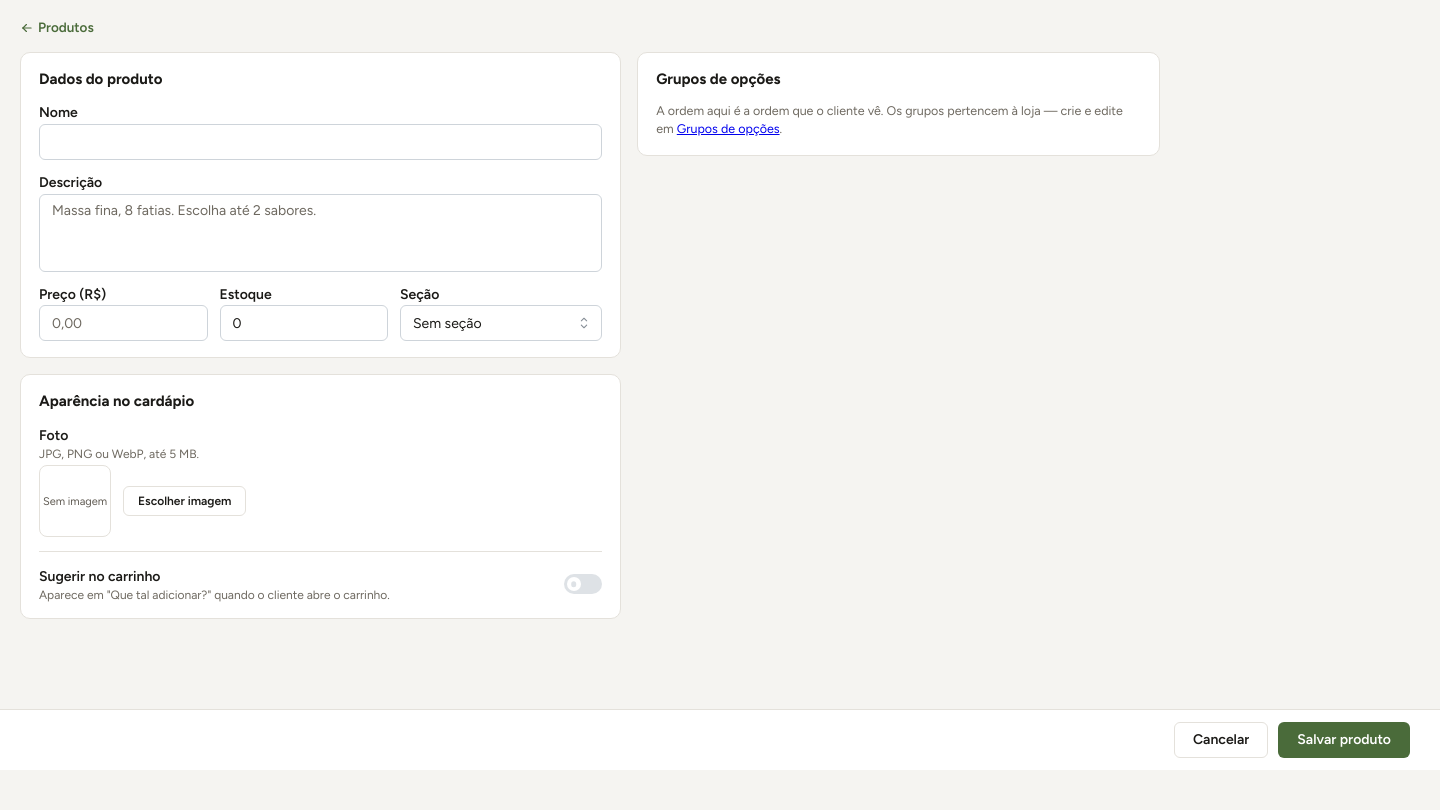
Test: ProductFormPage › produto recém-criado troca para edição quando os grupos falham, e salvar de novo não duplica
Step 1. Type "Pizza Grande" into the field labelled "Nome" → (321, 142), box [39, 124, 602, 160]
Step 2. Type "45,90" into the field labelled "Preço (R$)" → (123, 323), box [39, 305, 208, 341]
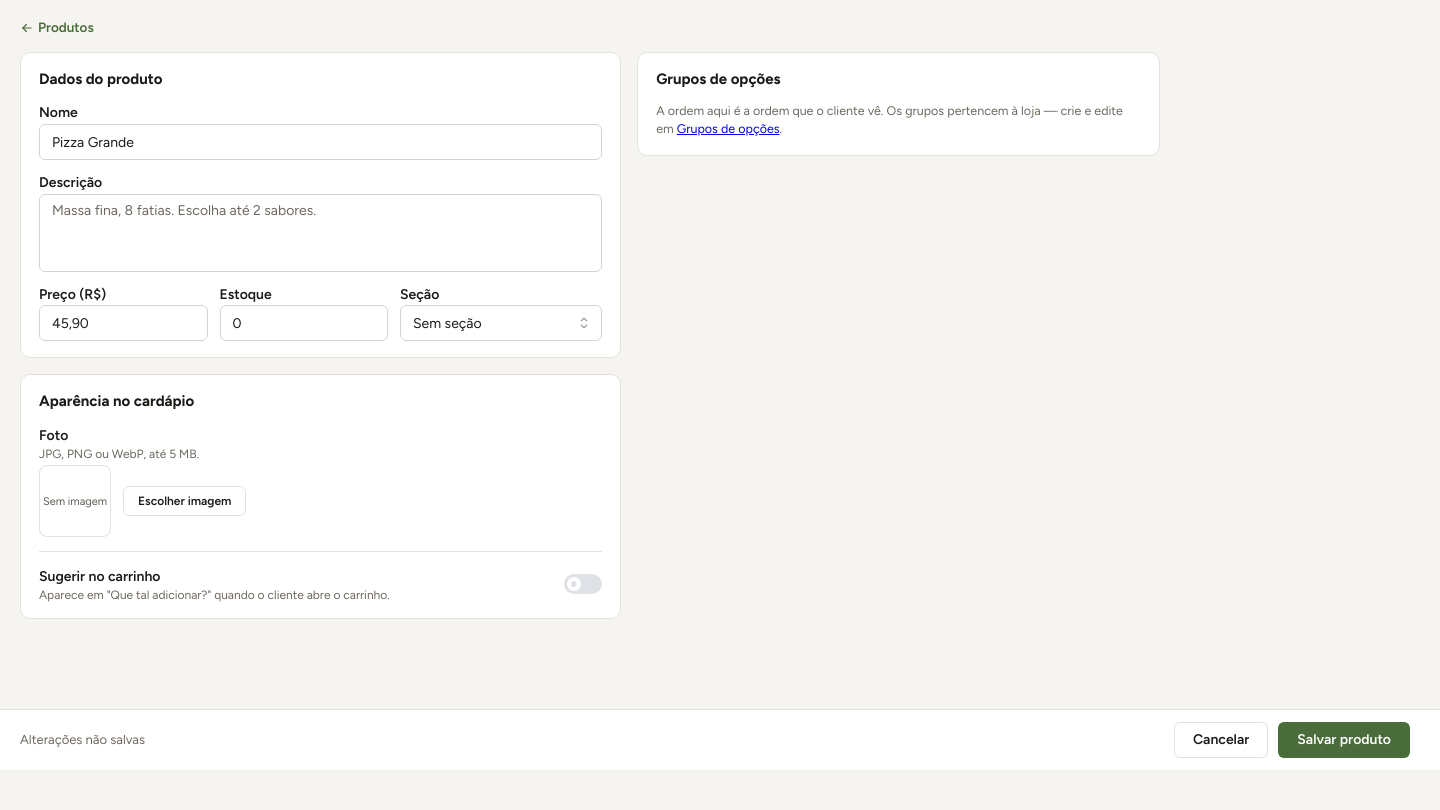
Step 3. Replace the text in the field labelled "Estoque" with "12" → (304, 323), box [220, 305, 388, 341]
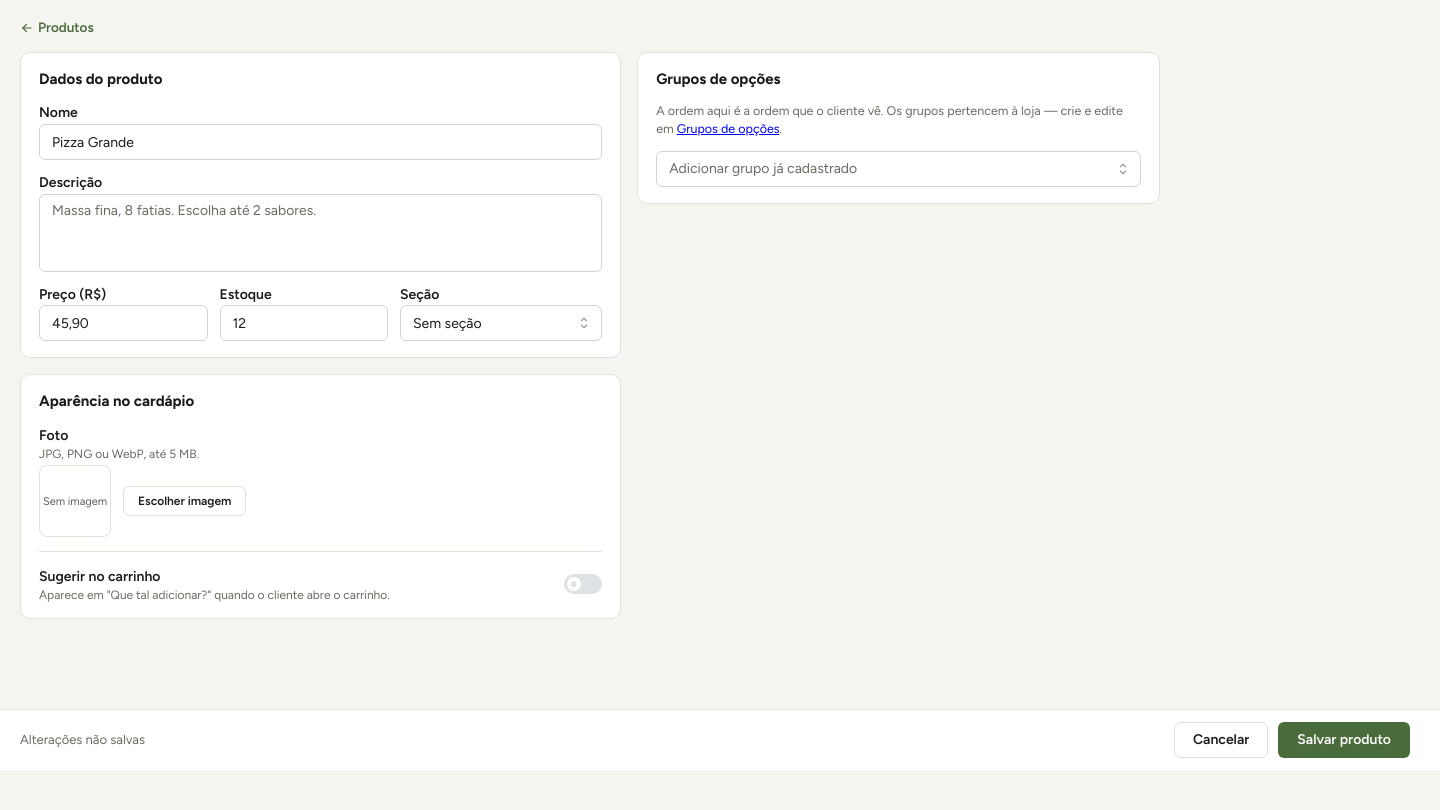
Step 4. Click the dropdown labelled "Adicionar grupo já cadastrado" → (899, 169), box [656, 151, 1141, 187]
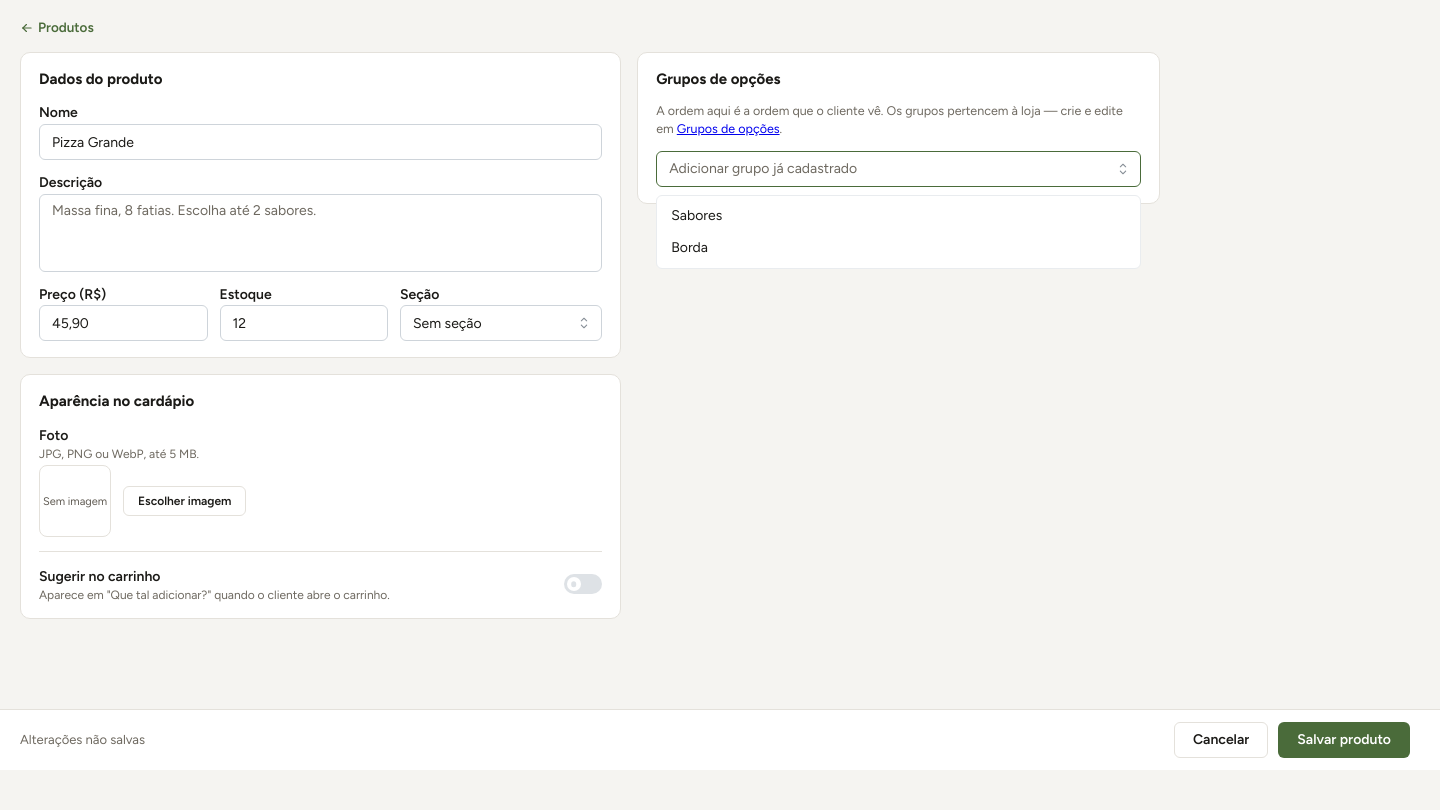
Step 5. Click the option "Sabores" → (697, 215), box [671, 207, 722, 224]
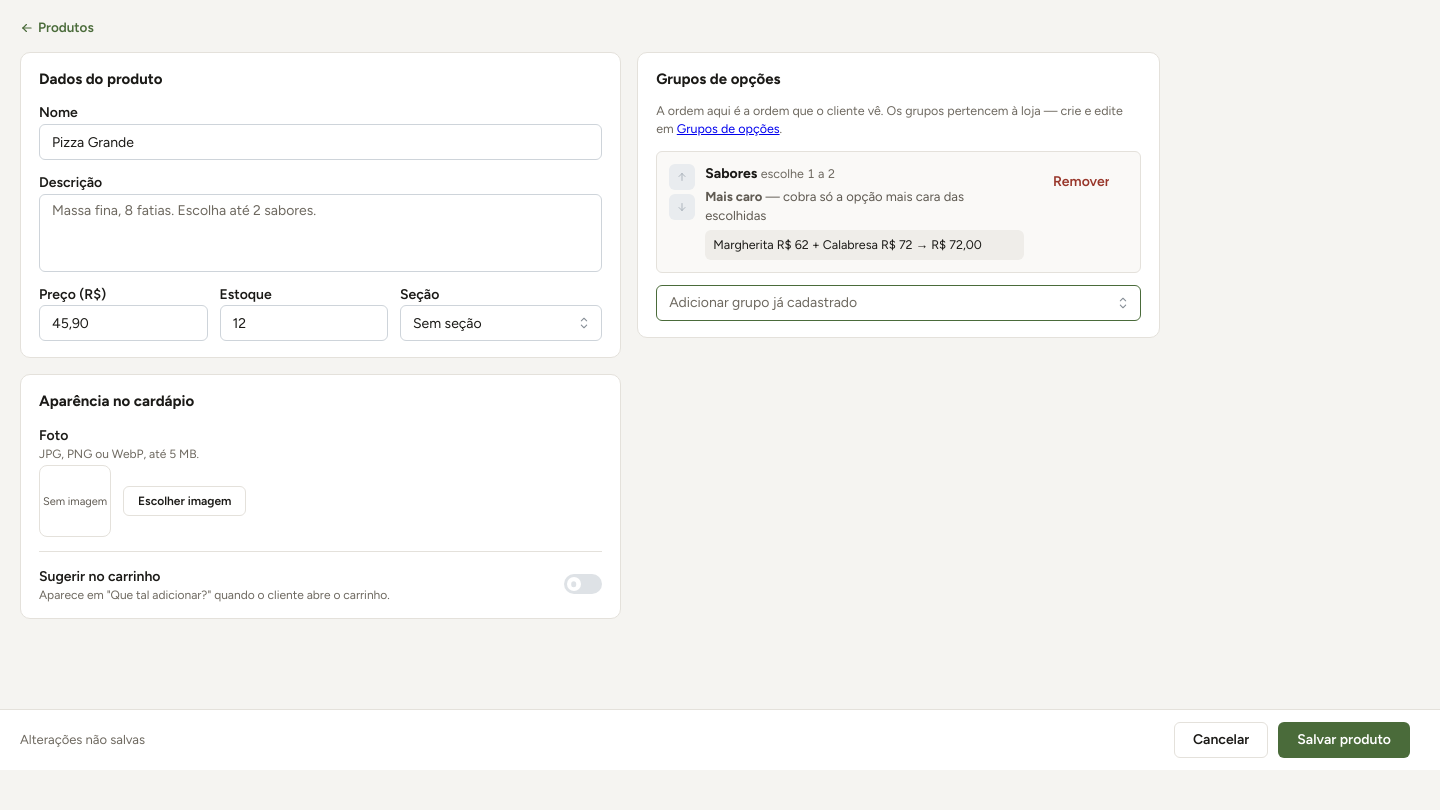
Step 6. Click the button "Salvar produto" → (1344, 740), box [1278, 722, 1410, 758]
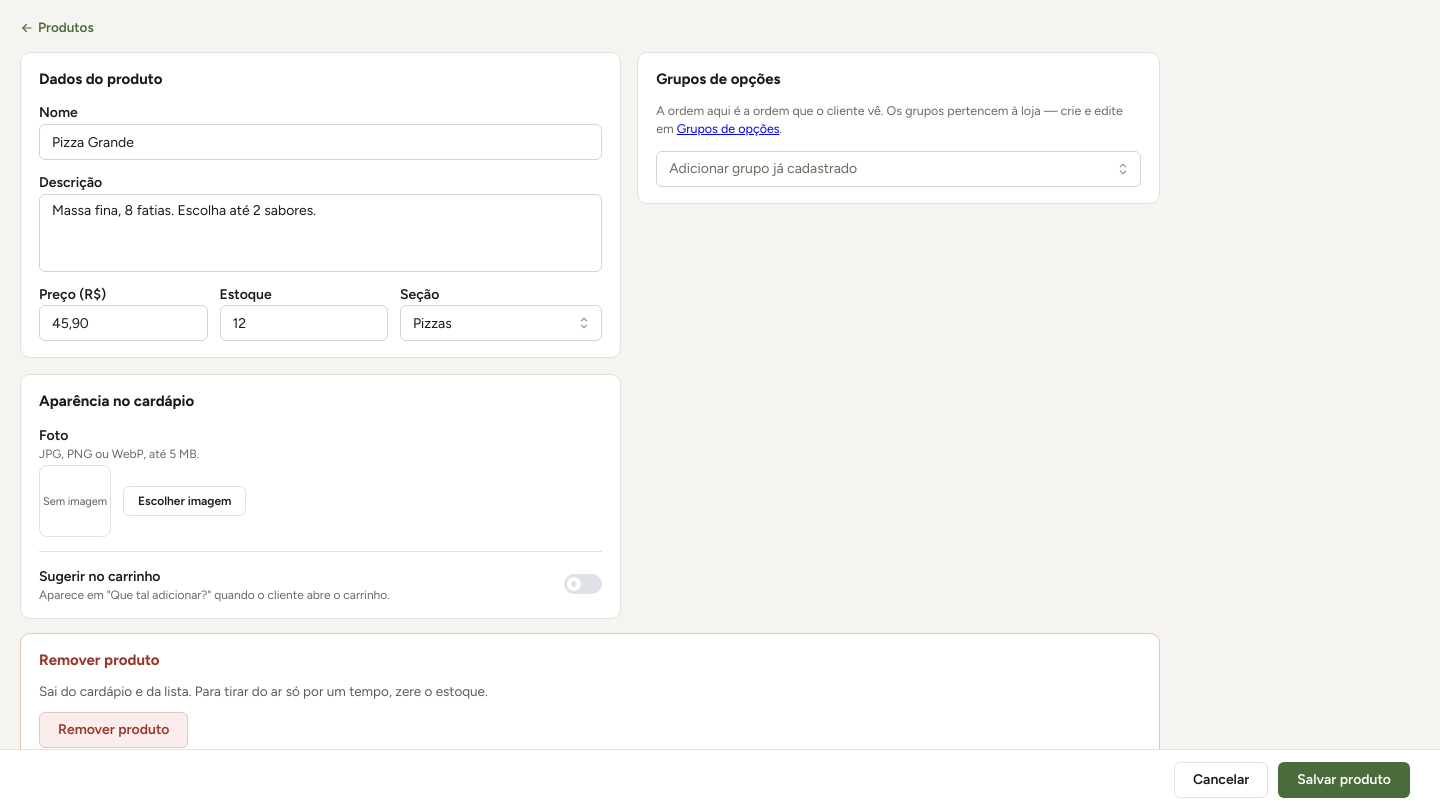
Step 7. Click the button "Salvar produto" → (1344, 780), box [1278, 762, 1410, 798]
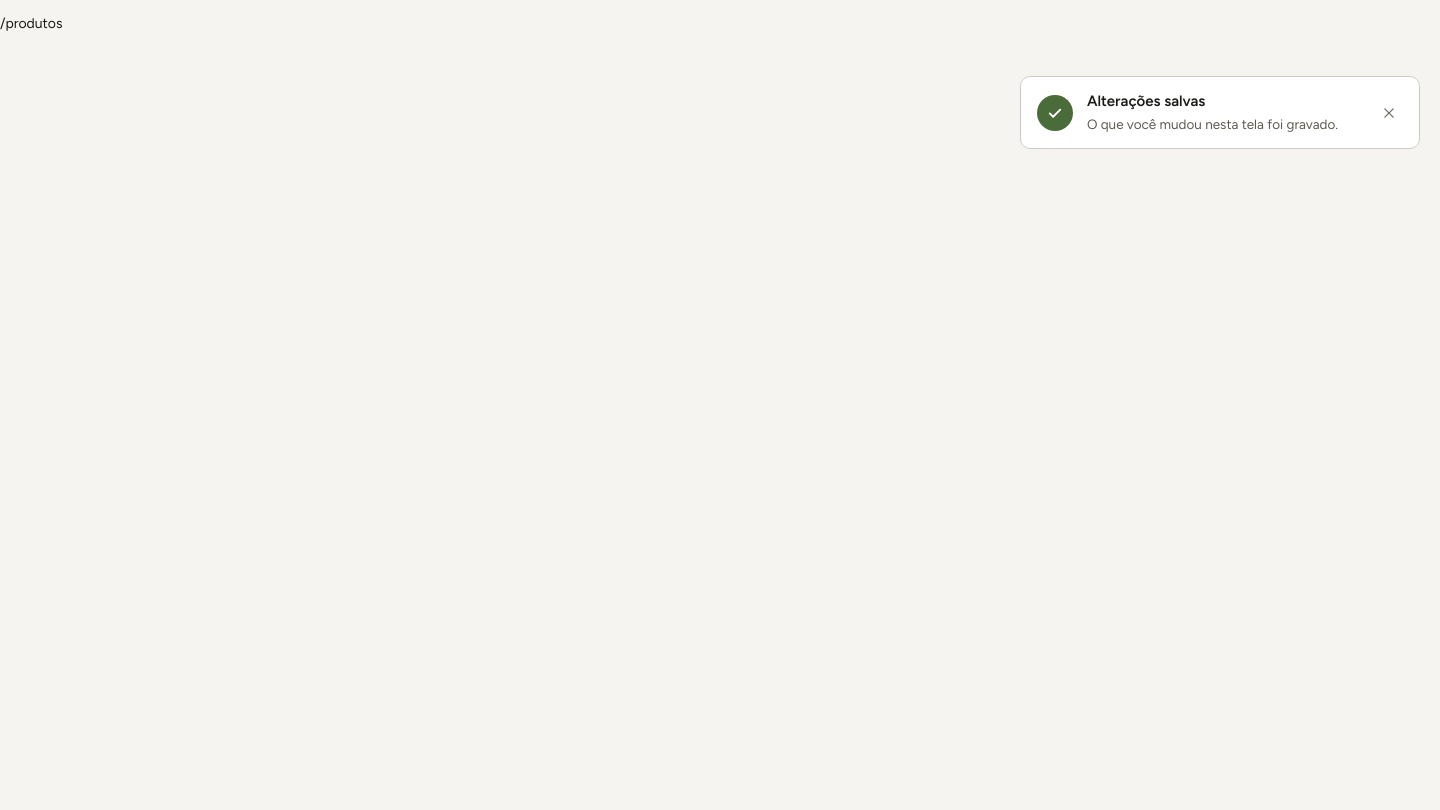
Expected: the text with test id "location" reads "/produtos", [0, 15, 62, 32]
